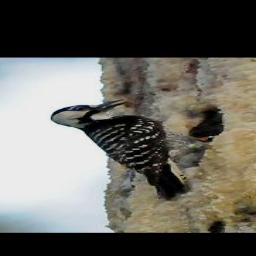Woodpecker: (47, 99, 214, 201)
